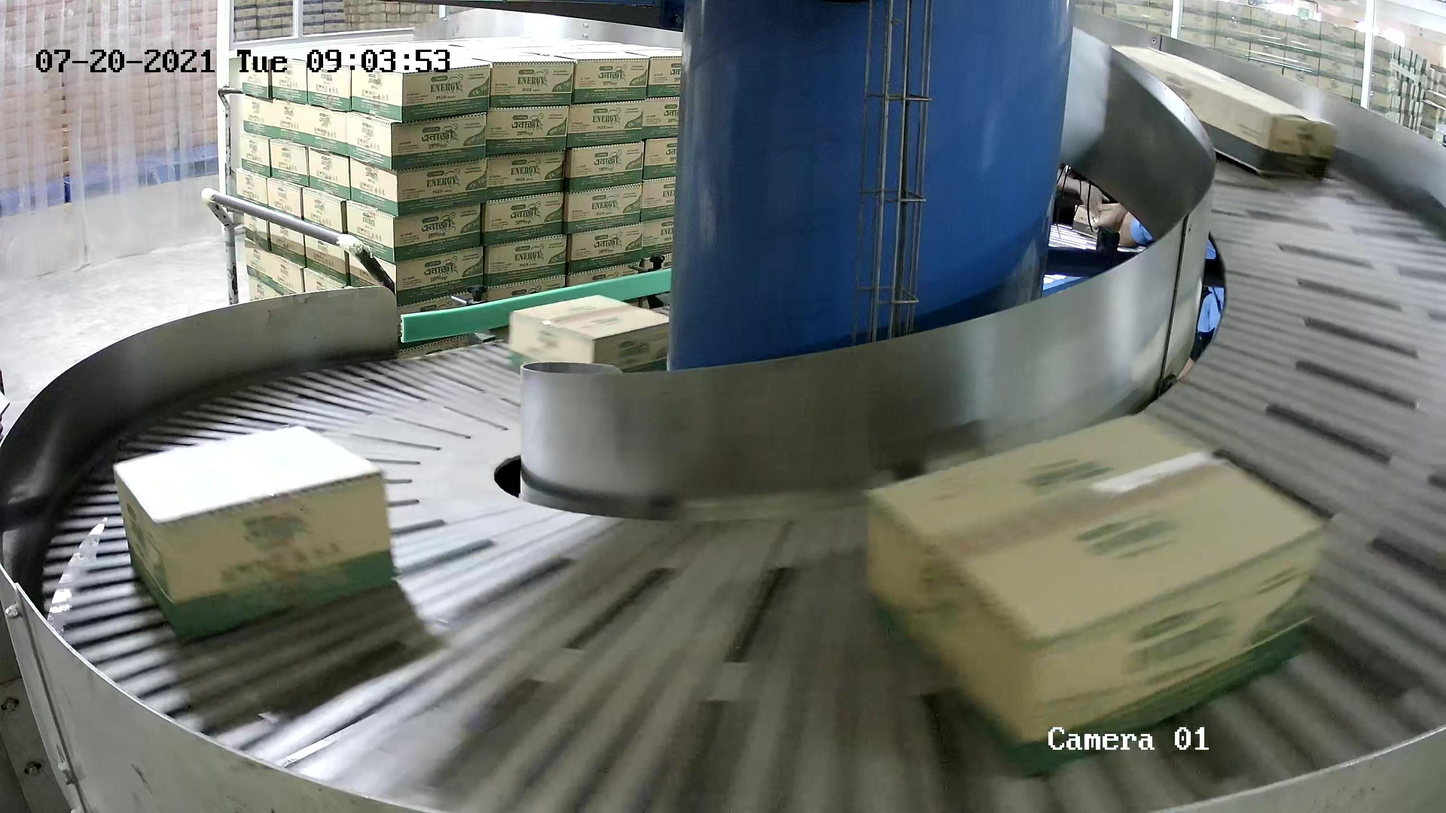Box: (861, 408, 1331, 783), (112, 425, 397, 646), (1107, 42, 1339, 180), (507, 294, 670, 376)
